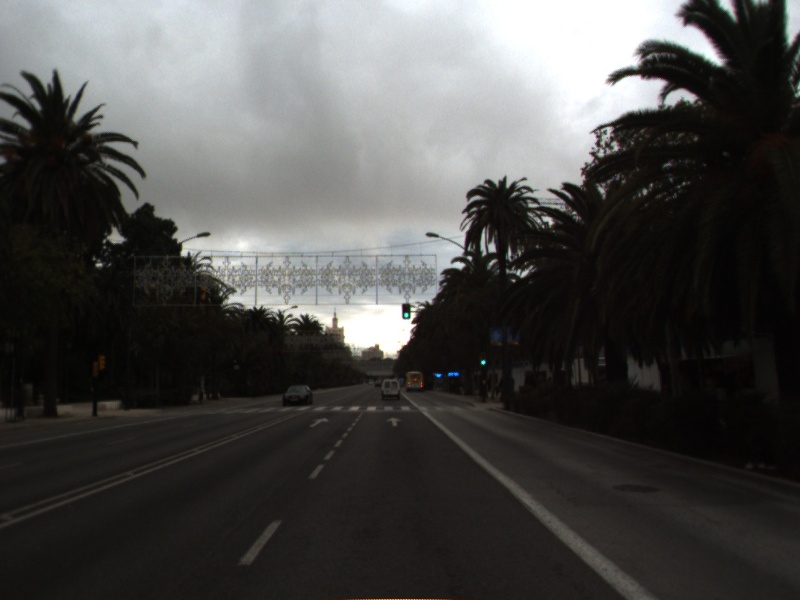STRAIGHT: (307, 416, 331, 429), (384, 415, 404, 428)
